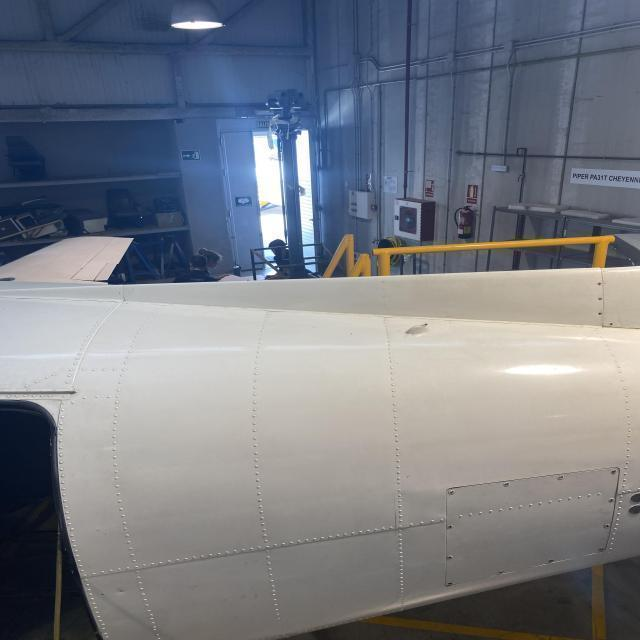Dent: (117, 584, 130, 596)
Missing_Fastener: (608, 322, 615, 326), (598, 282, 602, 286), (598, 312, 602, 315)
